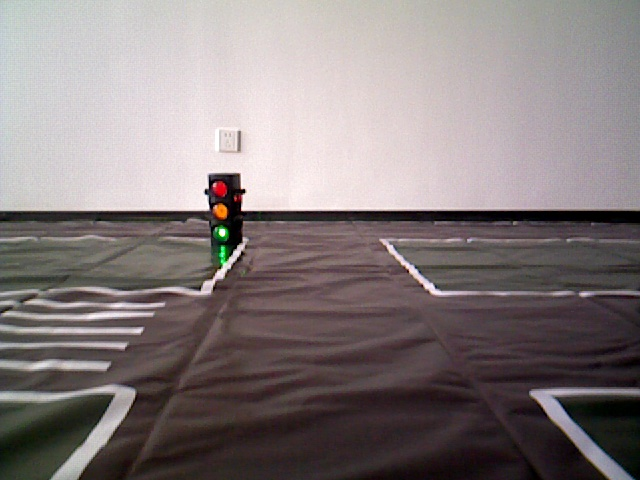green: (209, 177, 237, 240)
